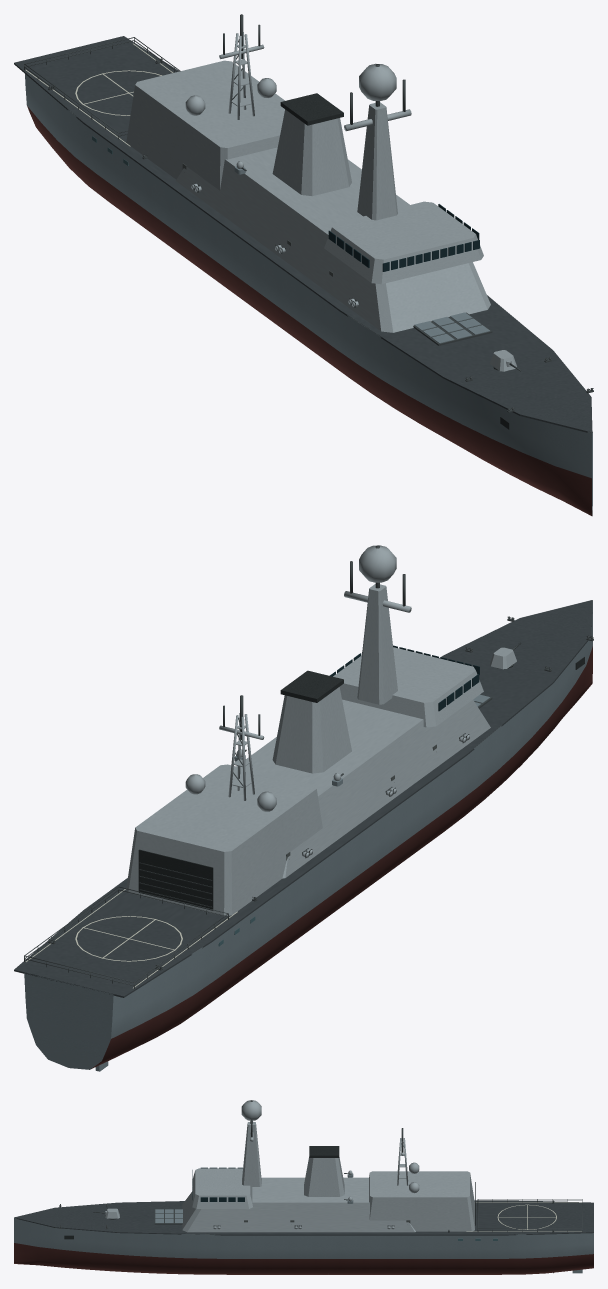
File: wings_aquitaine_fremm.glb
3 views of the same model, one above another, from view 1: azimuth 30°, elevation 25°; view 2: azimuth 150°, elevation 25°; view 3: azimuth 270°, elevation 25° (orthographic). The views are drawn at different scales.
Parts seen in each view (by area): view 1: static_hull_deck_superstructure; view 2: static_hull_deck_superstructure; view 3: static_hull_deck_superstructure.
Boxes of the visible parts, bbox=[...] form: static_hull_deck_superstructure: bbox=[14, 14, 593, 516]; static_hull_deck_superstructure: bbox=[14, 545, 593, 1071]; static_hull_deck_superstructure: bbox=[14, 1100, 593, 1274].
Size of the model in its own units: 20 by 45.32 by 142.
Materials: 1 (1 with a texture image).
